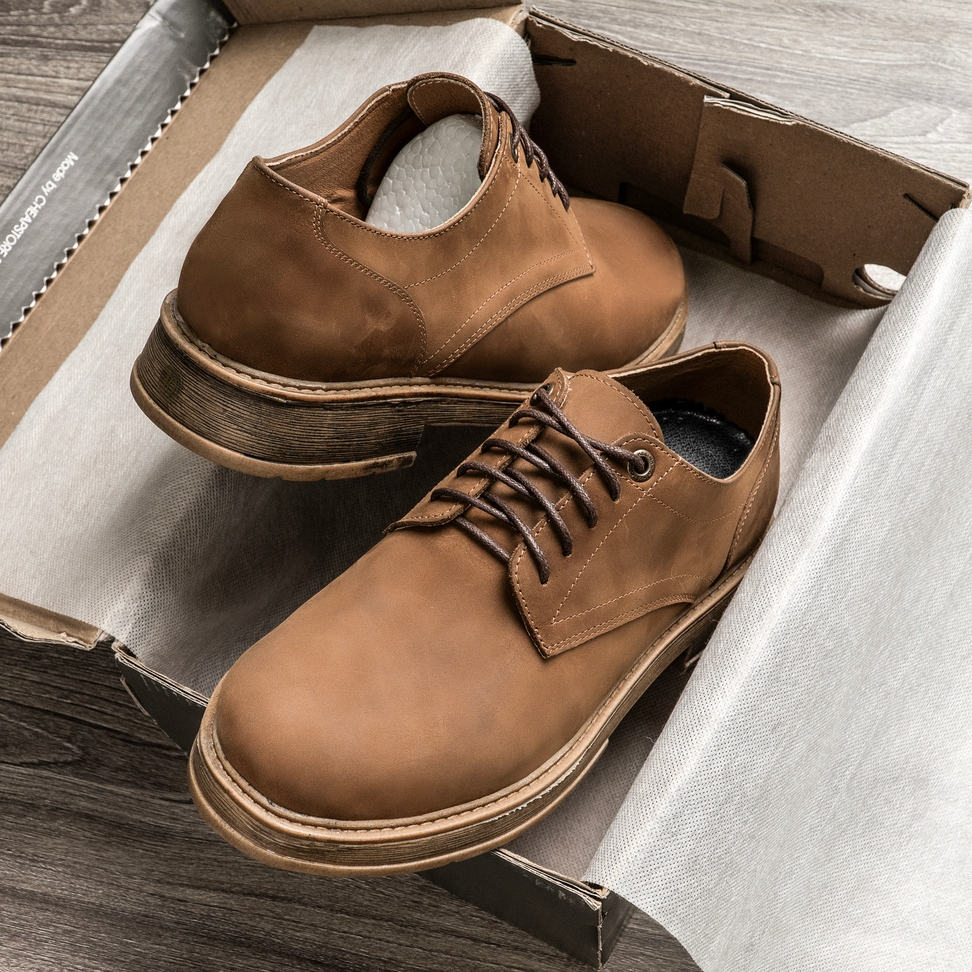derby: (183, 345, 783, 875), (128, 75, 690, 483)
